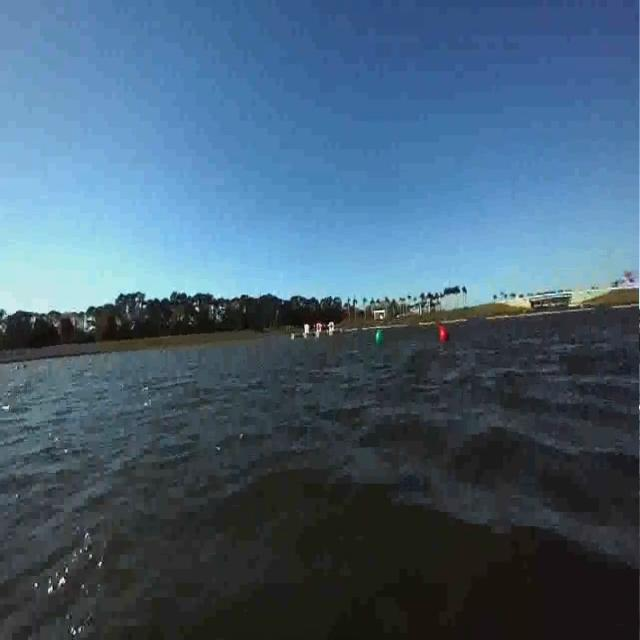green-buoy: (376, 329, 384, 342)
red-buoy: (440, 324, 450, 341)
